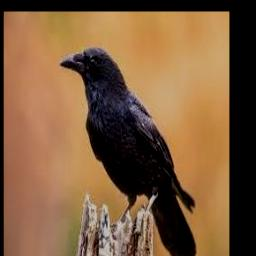Crow: (59, 48, 197, 256)
